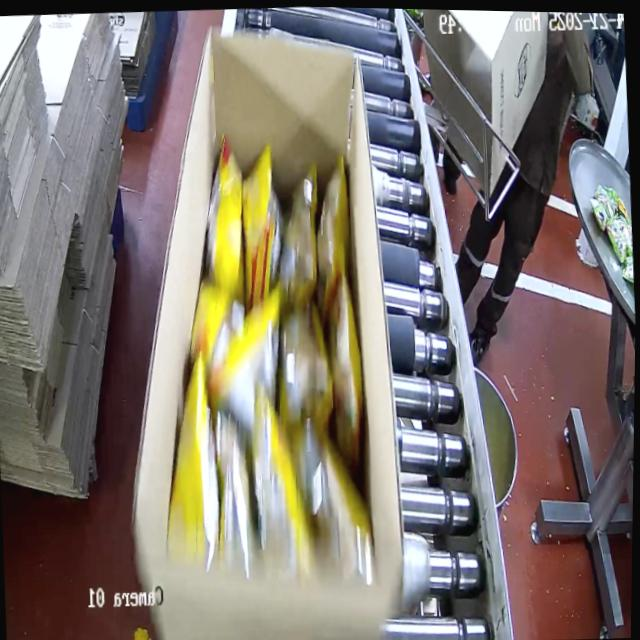SALTED: (152, 147, 384, 570)
